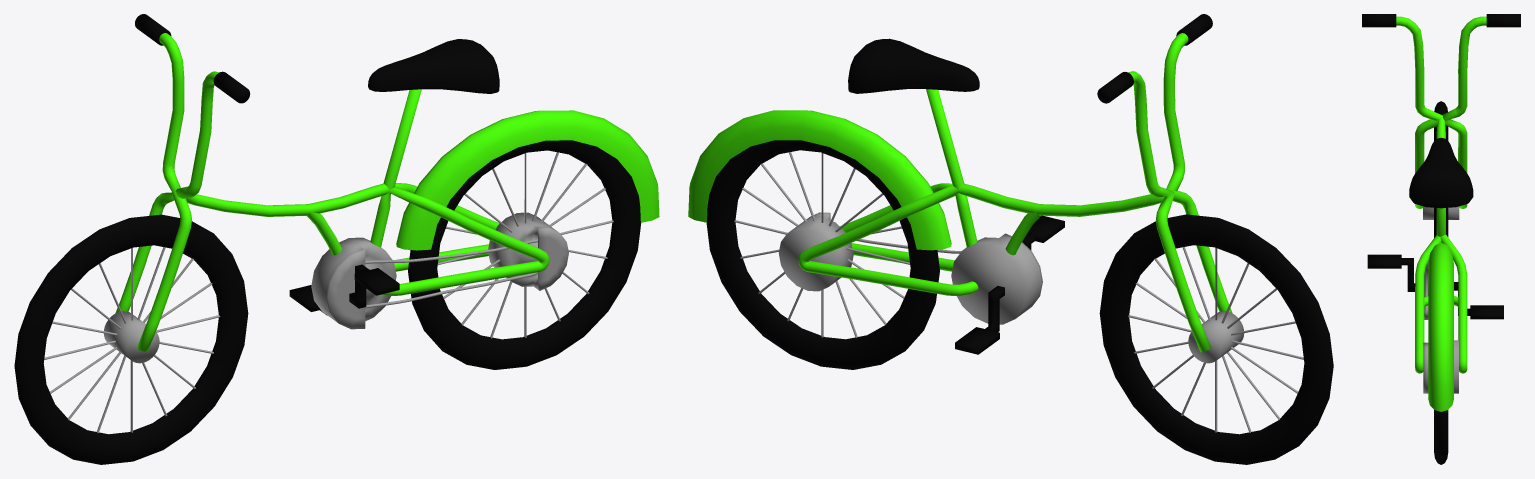
Rendered from BikeGreen.fbx.
3 renders of one model, left to right at view 1: azimuth 30°, elevation 25°; view 2: azimuth 150°, elevation 25°; view 3: azimuth 270°, elevation 25°, orthographic. The views are drawn at different scales.
Visible parts, largest first — view 1: Cube.007; view 2: Cube.007; view 3: Cube.007.
Part boxes in pixels (x1=…): Cube.007: x1=14, y1=14, x2=659, y2=464; Cube.007: x1=688, y1=14, x2=1333, y2=464; Cube.007: x1=1362, y1=14, x2=1520, y2=464.
Bounding box in the file's own units: 253 × 149 × 68.44.
